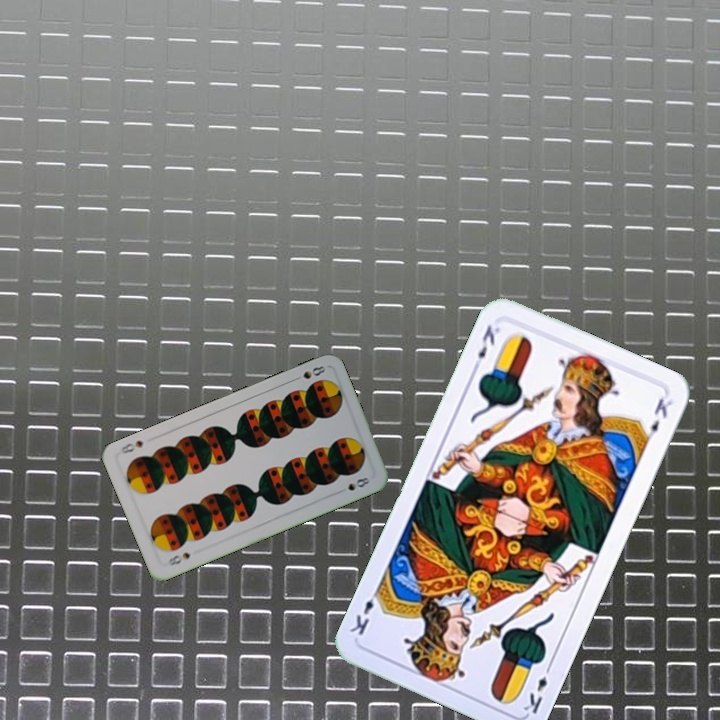EK: (519, 659, 555, 717), (468, 321, 502, 375)
S8: (289, 361, 328, 384), (164, 548, 193, 568)
